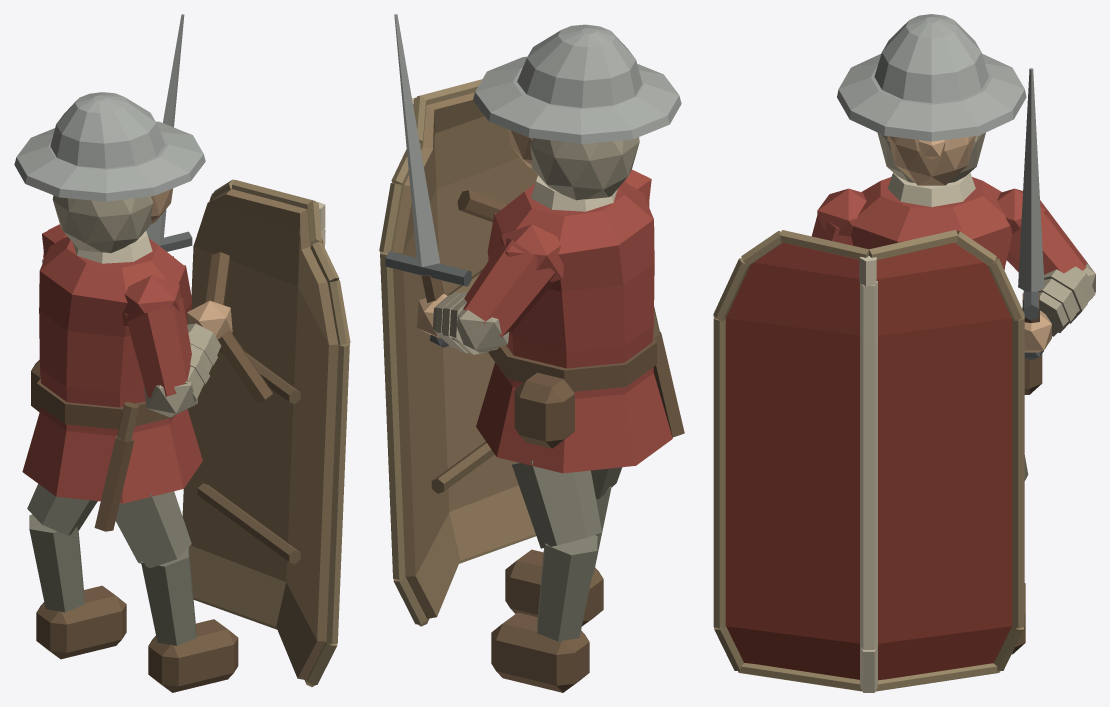
Rendered from infantry_pavise.glb.
3 renders of one model, left to right at view 1: azimuth 30°, elevation 25°; view 2: azimuth 150°, elevation 25°; view 3: azimuth 270°, elevation 25°, orthographic. The views are drawn at different scales.
Visible parts, largest first — view 1: infantry_pavise_team_paint, infantry_pavise_team_cloth, infantry_pavise_leather, infantry_pavise_steel, infantry_pavise_hose, infantry_pavise_shield_edge, infantry_pavise_padded_linen, infantry_pavise_oak_dark, infantry_pavise_skin, infantry_pavise_linen; view 2: infantry_pavise_team_cloth, infantry_pavise_team_paint, infantry_pavise_steel, infantry_pavise_leather, infantry_pavise_hose, infantry_pavise_padded_linen, infantry_pavise_shield_edge, infantry_pavise_oak_dark, infantry_pavise_iron, infantry_pavise_linen, infantry_pavise_skin; view 3: infantry_pavise_team_paint, infantry_pavise_steel, infantry_pavise_shield_edge, infantry_pavise_team_cloth, infantry_pavise_linen, infantry_pavise_skin, infantry_pavise_padded_linen, infantry_pavise_leather.
Boxes of the visible parts, bbox=[...] form: infantry_pavise_team_paint: bbox=[182, 188, 338, 680]; infantry_pavise_team_cloth: bbox=[22, 224, 202, 503]; infantry_pavise_leather: bbox=[31, 252, 272, 692]; infantry_pavise_steel: bbox=[14, 14, 205, 245]; infantry_pavise_hose: bbox=[27, 483, 196, 645]; infantry_pavise_shield_edge: bbox=[193, 179, 350, 686]; infantry_pavise_padded_linen: bbox=[42, 195, 221, 417]; infantry_pavise_oak_dark: bbox=[117, 349, 300, 563]; infantry_pavise_skin: bbox=[150, 188, 232, 339]; infantry_pavise_linen: bbox=[73, 201, 325, 263]; infantry_pavise_team_cloth: bbox=[463, 169, 672, 473]; infantry_pavise_team_paint: bbox=[392, 92, 537, 618]; infantry_pavise_steel: bbox=[394, 14, 681, 266]; infantry_pavise_leather: bbox=[421, 190, 684, 692]; infantry_pavise_hose: bbox=[512, 460, 622, 641]; infantry_pavise_padded_linen: bbox=[433, 137, 639, 354]; infantry_pavise_shield_edge: bbox=[379, 79, 536, 626]; infantry_pavise_oak_dark: bbox=[431, 269, 659, 493]; infantry_pavise_iron: bbox=[385, 251, 471, 347]; infantry_pavise_linen: bbox=[412, 97, 617, 211]; infantry_pavise_skin: bbox=[416, 129, 533, 338]; infantry_pavise_team_paint: bbox=[725, 242, 1012, 680]; infantry_pavise_steel: bbox=[837, 14, 1044, 291]; infantry_pavise_shield_edge: bbox=[713, 230, 1024, 691]; infantry_pavise_team_cloth: bbox=[812, 177, 1087, 274]; infantry_pavise_linen: bbox=[859, 172, 975, 692]; infantry_pavise_skin: bbox=[887, 136, 1051, 352]; infantry_pavise_padded_linen: bbox=[877, 132, 1095, 336]; infantry_pavise_leather: bbox=[1012, 293, 1042, 654].
Bounding box in the file's own units: 0.8983 × 1.89 × 1.04.
